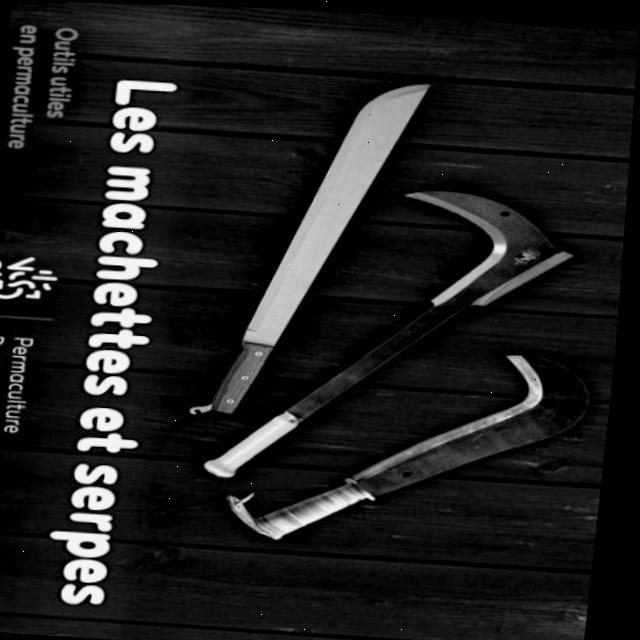long knife: (145, 63, 436, 434)
